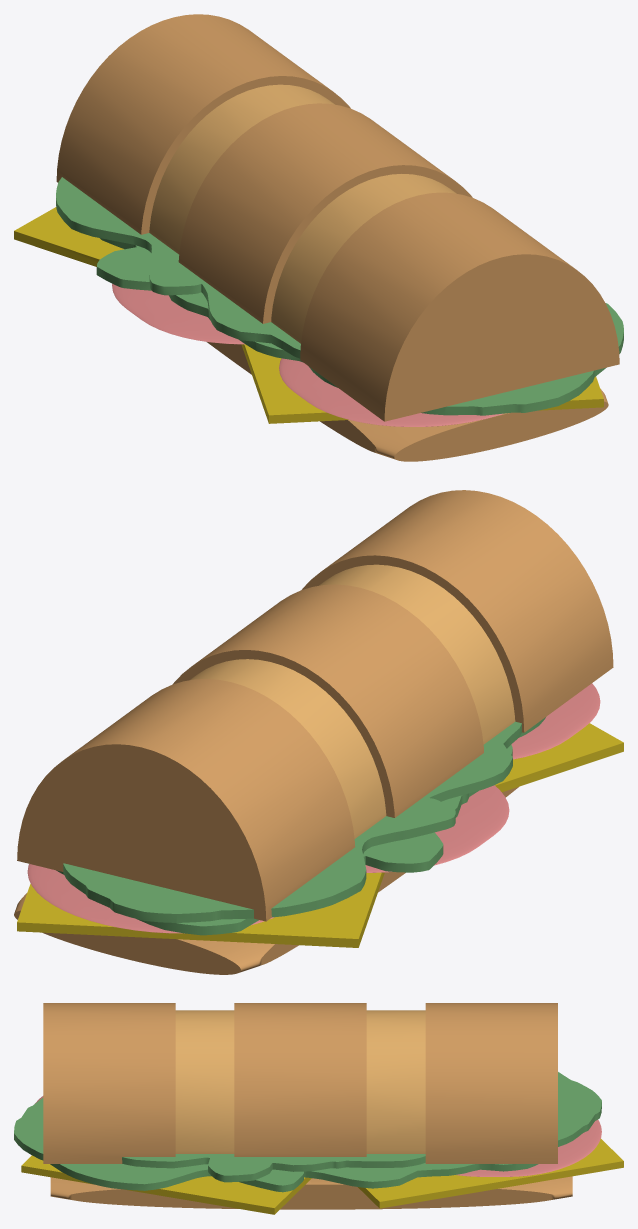
The model's file is Panino.glb.
The picture shows the model from 3 angles, top to bottom: view 1: azimuth 30°, elevation 25°; view 2: azimuth 150°, elevation 25°; view 3: azimuth 270°, elevation 25°; orthographic projection. The views are drawn at different scales.
Parts seen in each view (by area): view 1: Panino; view 2: Panino; view 3: Panino.
Part boxes in pixels (box(x1,y1,x2,y2)): Panino: box(14, 14, 623, 461); Panino: box(14, 490, 623, 974); Panino: box(14, 1003, 623, 1214).
Bounding box in the file's own units: 0.731 × 0.3577 × 1.29.
